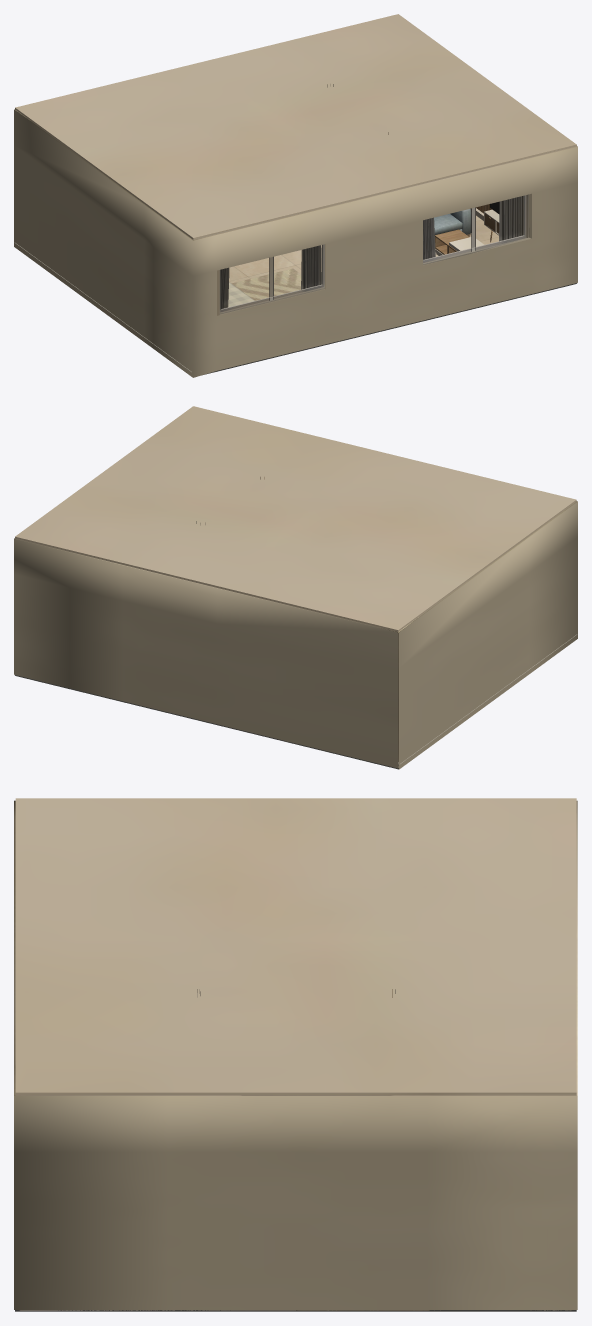
The model's file is StudioApartment.glb.
3 views of the same model, one above another, from view 1: azimuth 30°, elevation 25°; view 2: azimuth 150°, elevation 25°; view 3: azimuth 270°, elevation 25° (orthographic). The views are drawn at different scales.
Parts seen in each view (by area): view 1: StudioInterior; view 2: StudioInterior; view 3: StudioInterior.
Boxes of the visible parts, bbox=[...] form: StudioInterior: bbox=[14, 14, 577, 377]; StudioInterior: bbox=[14, 406, 577, 769]; StudioInterior: bbox=[14, 798, 577, 1311].
Size of the model in its own units: 16.45 by 5.83 by 13.26.
2 materials, 2 textured.
